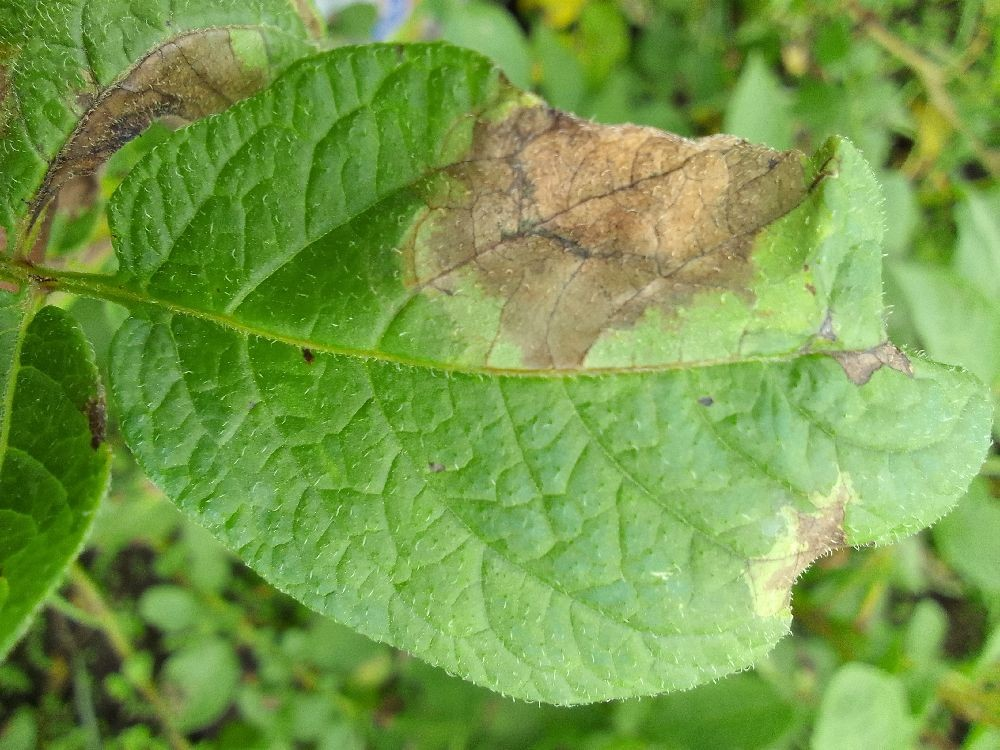late_blight: (394, 85, 819, 390), (0, 1, 296, 326), (0, 585, 199, 750), (874, 572, 995, 669)
